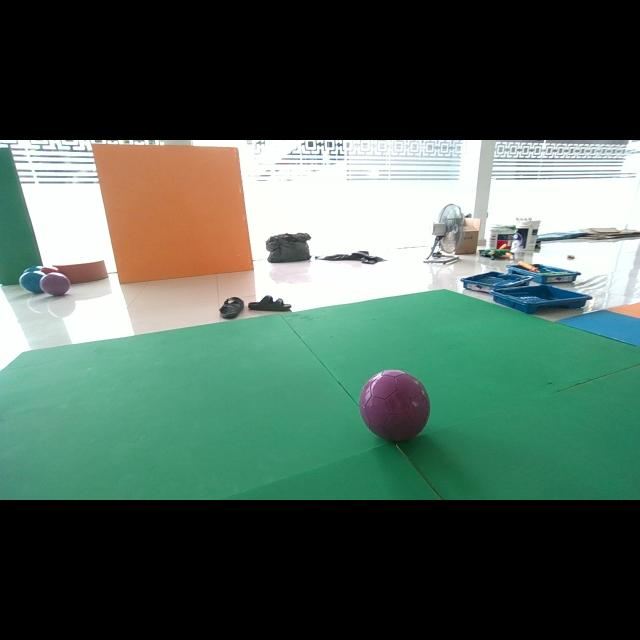B: (19, 271, 45, 292), (22, 265, 44, 273)
P: (360, 370, 430, 441), (40, 272, 70, 296)
R: (40, 266, 59, 274)
